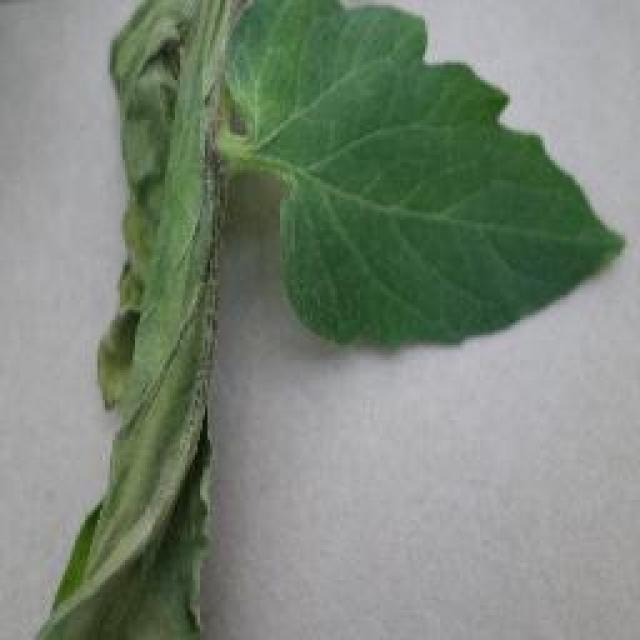Tomato late blight leaf: (37, 0, 245, 640)
